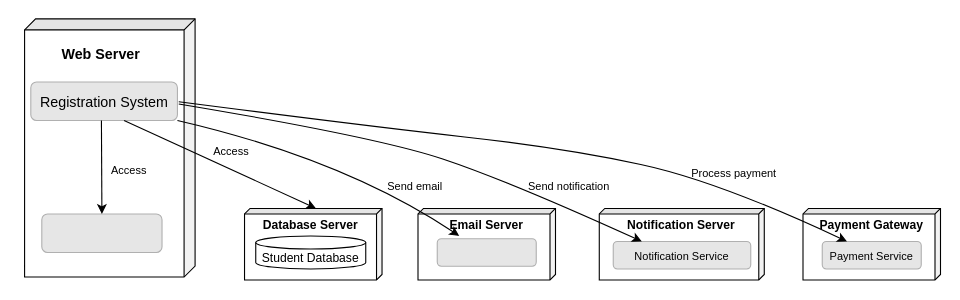
The diagram is 960 pixels wide and 300 high, and some of its shapes have lost their labels. The shapes that lost their labels are listed below. From the top down, each one's centre as x and y in pixels, then its label:
At point (101, 232): "Course Database".
At point (486, 252): "Email Service".
